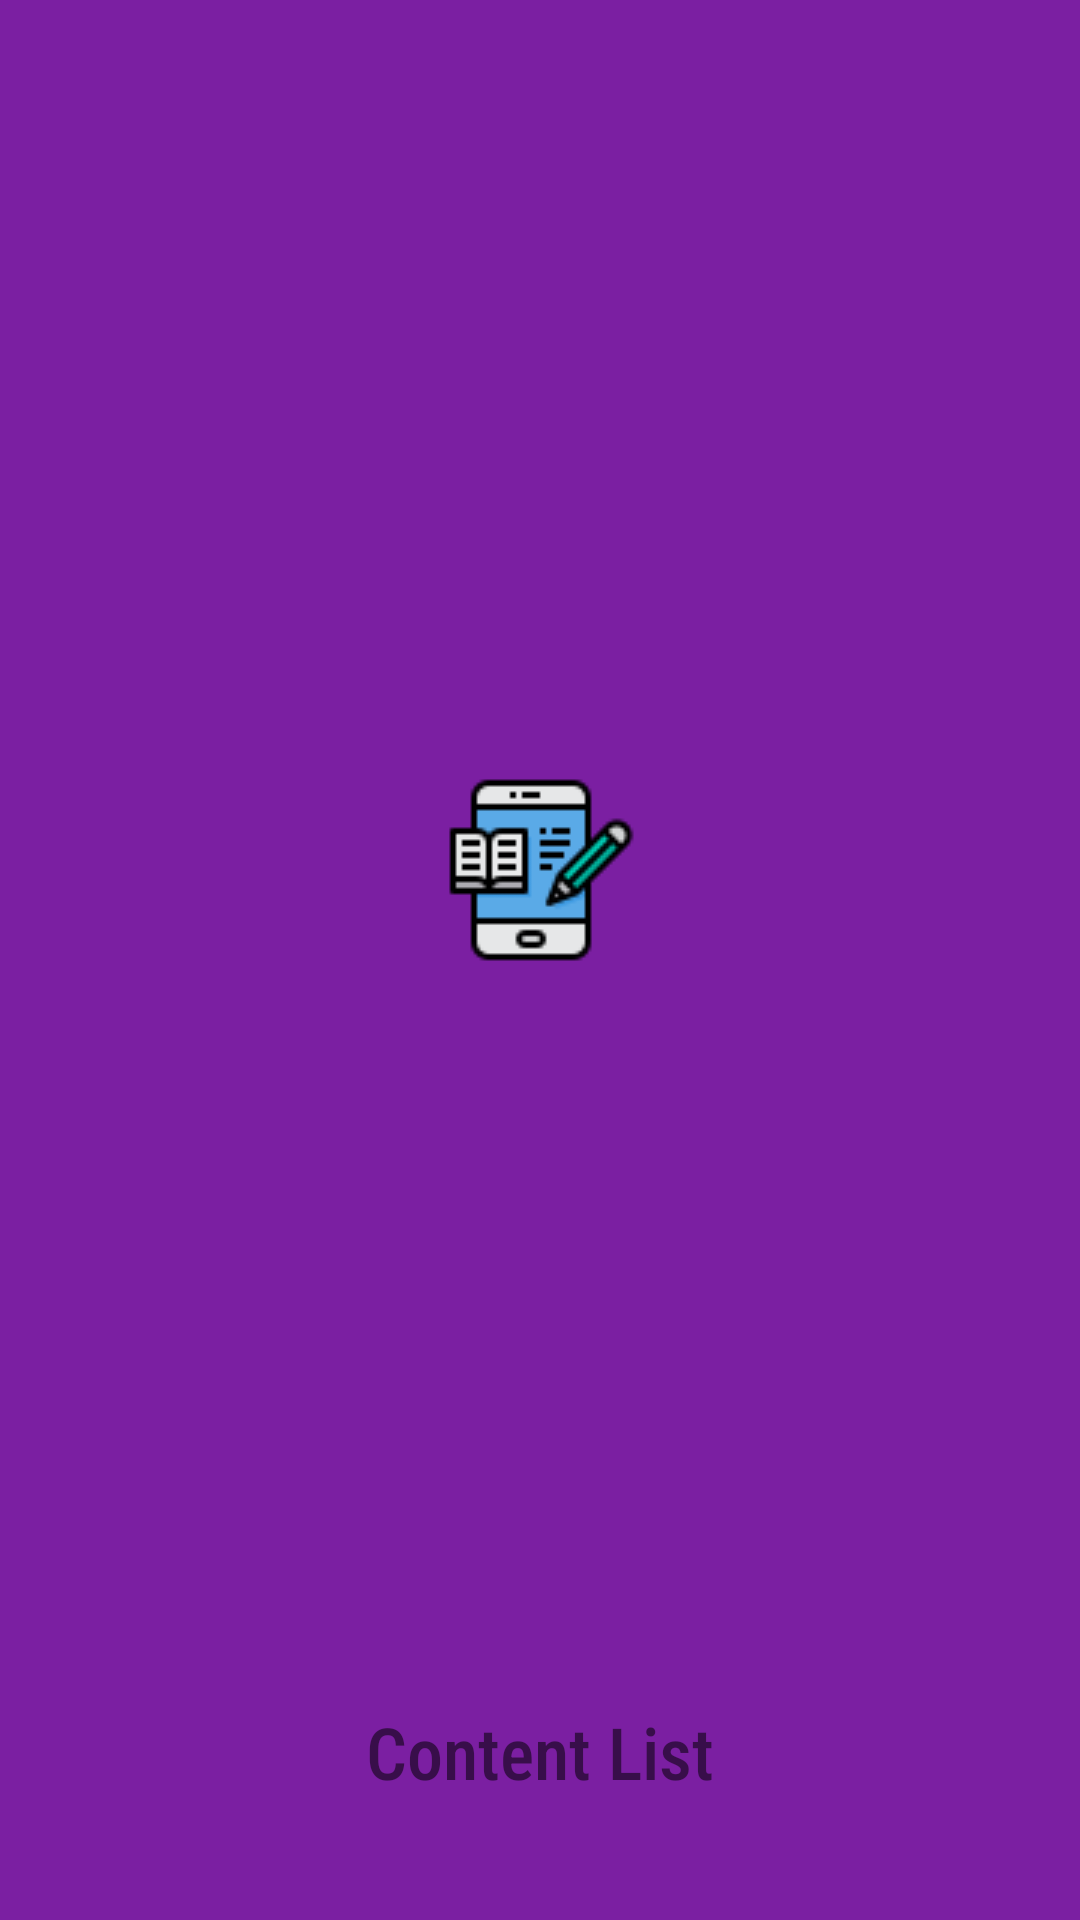

Where icons sit on this 1080×1920 app screen, as (x1, y1, x2, y2):
ebook: (449, 779, 634, 961)
